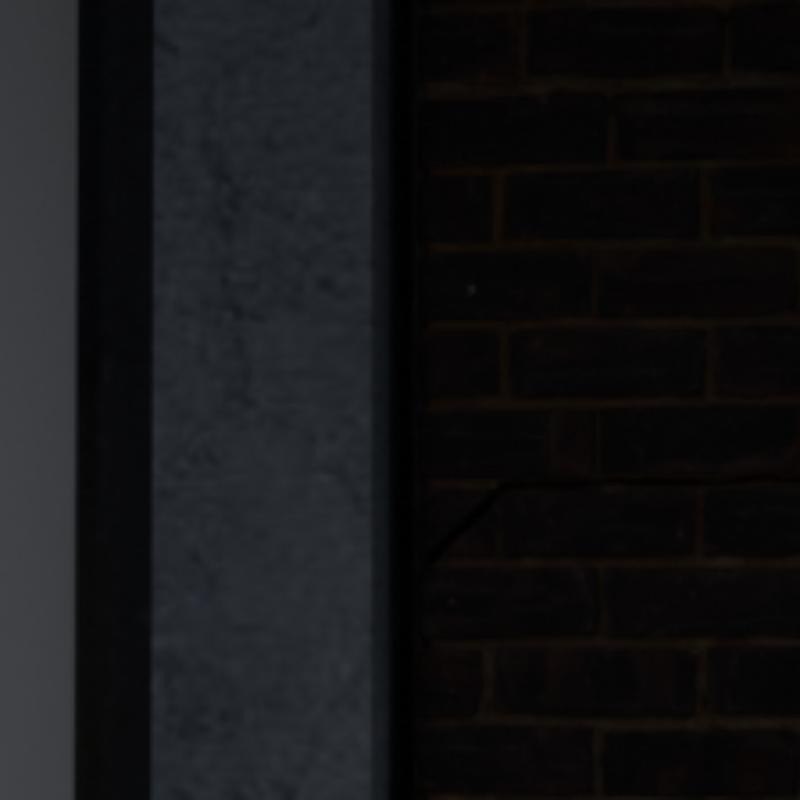crack: (429, 475, 796, 564)
